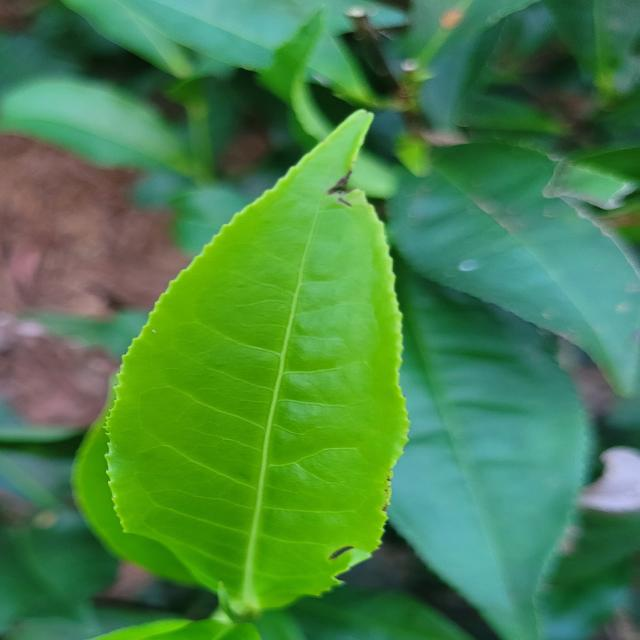Catagory A(1-2 days): (78, 70, 421, 624)
